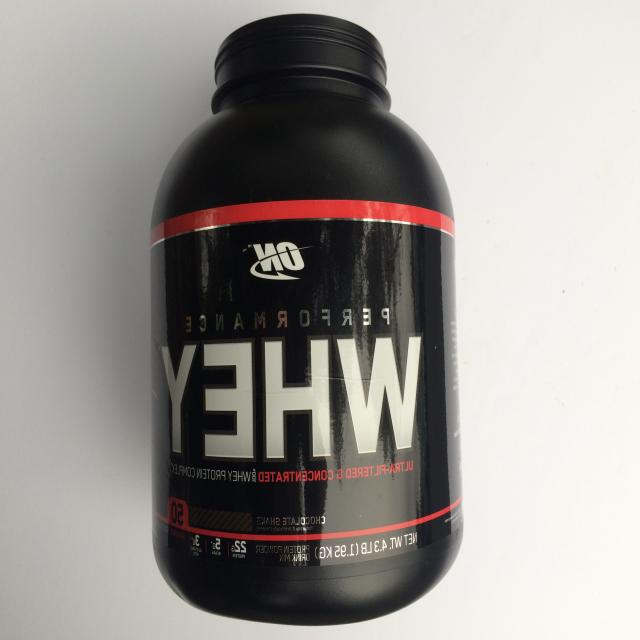plastic: (149, 12, 465, 626)
